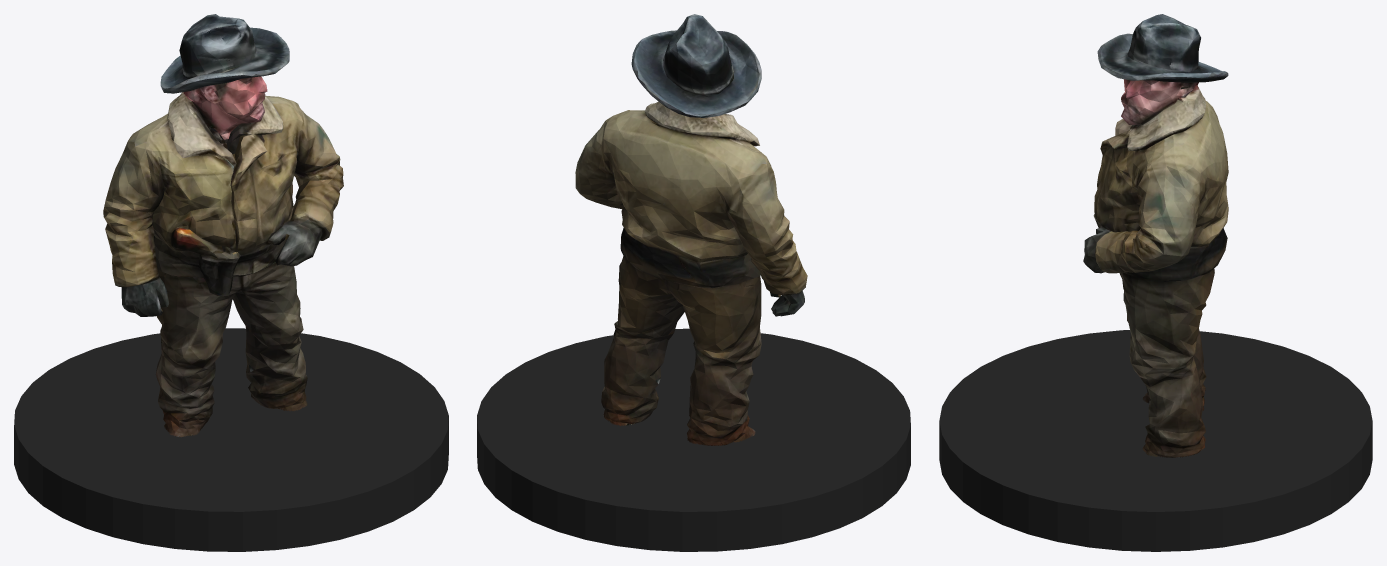
The model's file is daniel-smith.glb.
3 renders of one model, left to right at view 1: azimuth 30°, elevation 25°; view 2: azimuth 150°, elevation 25°; view 3: azimuth 270°, elevation 25°, orthographic.
Visible parts, largest first — view 1: base, figure; view 2: base, figure; view 3: base, figure.
Boxes of the visible parts, <box> form: base: <box>14,328,448,551</box>; figure: <box>103,14,343,437</box>; base: <box>477,328,910,551</box>; figure: <box>575,14,807,445</box>; base: <box>939,330,1372,551</box>; figure: <box>1083,14,1228,457</box>.
Size of the model in its own units: 1.18 by 1.32 by 1.18.
Materials: 2 (1 with a texture image).
